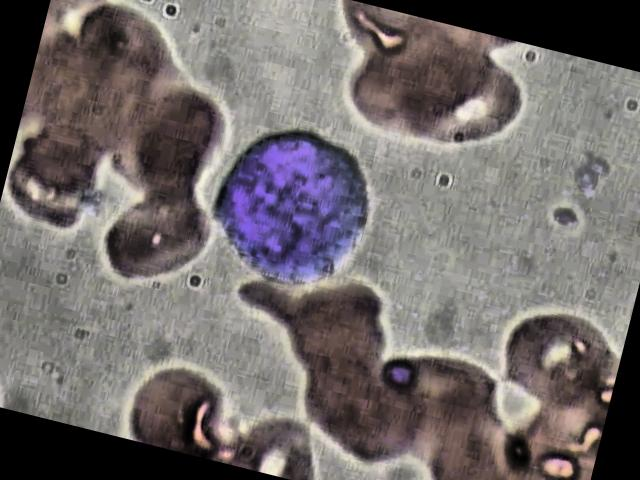RBC: (392, 42, 542, 170), (92, 181, 222, 305), (490, 300, 620, 424)
WBC: (192, 110, 400, 310)
